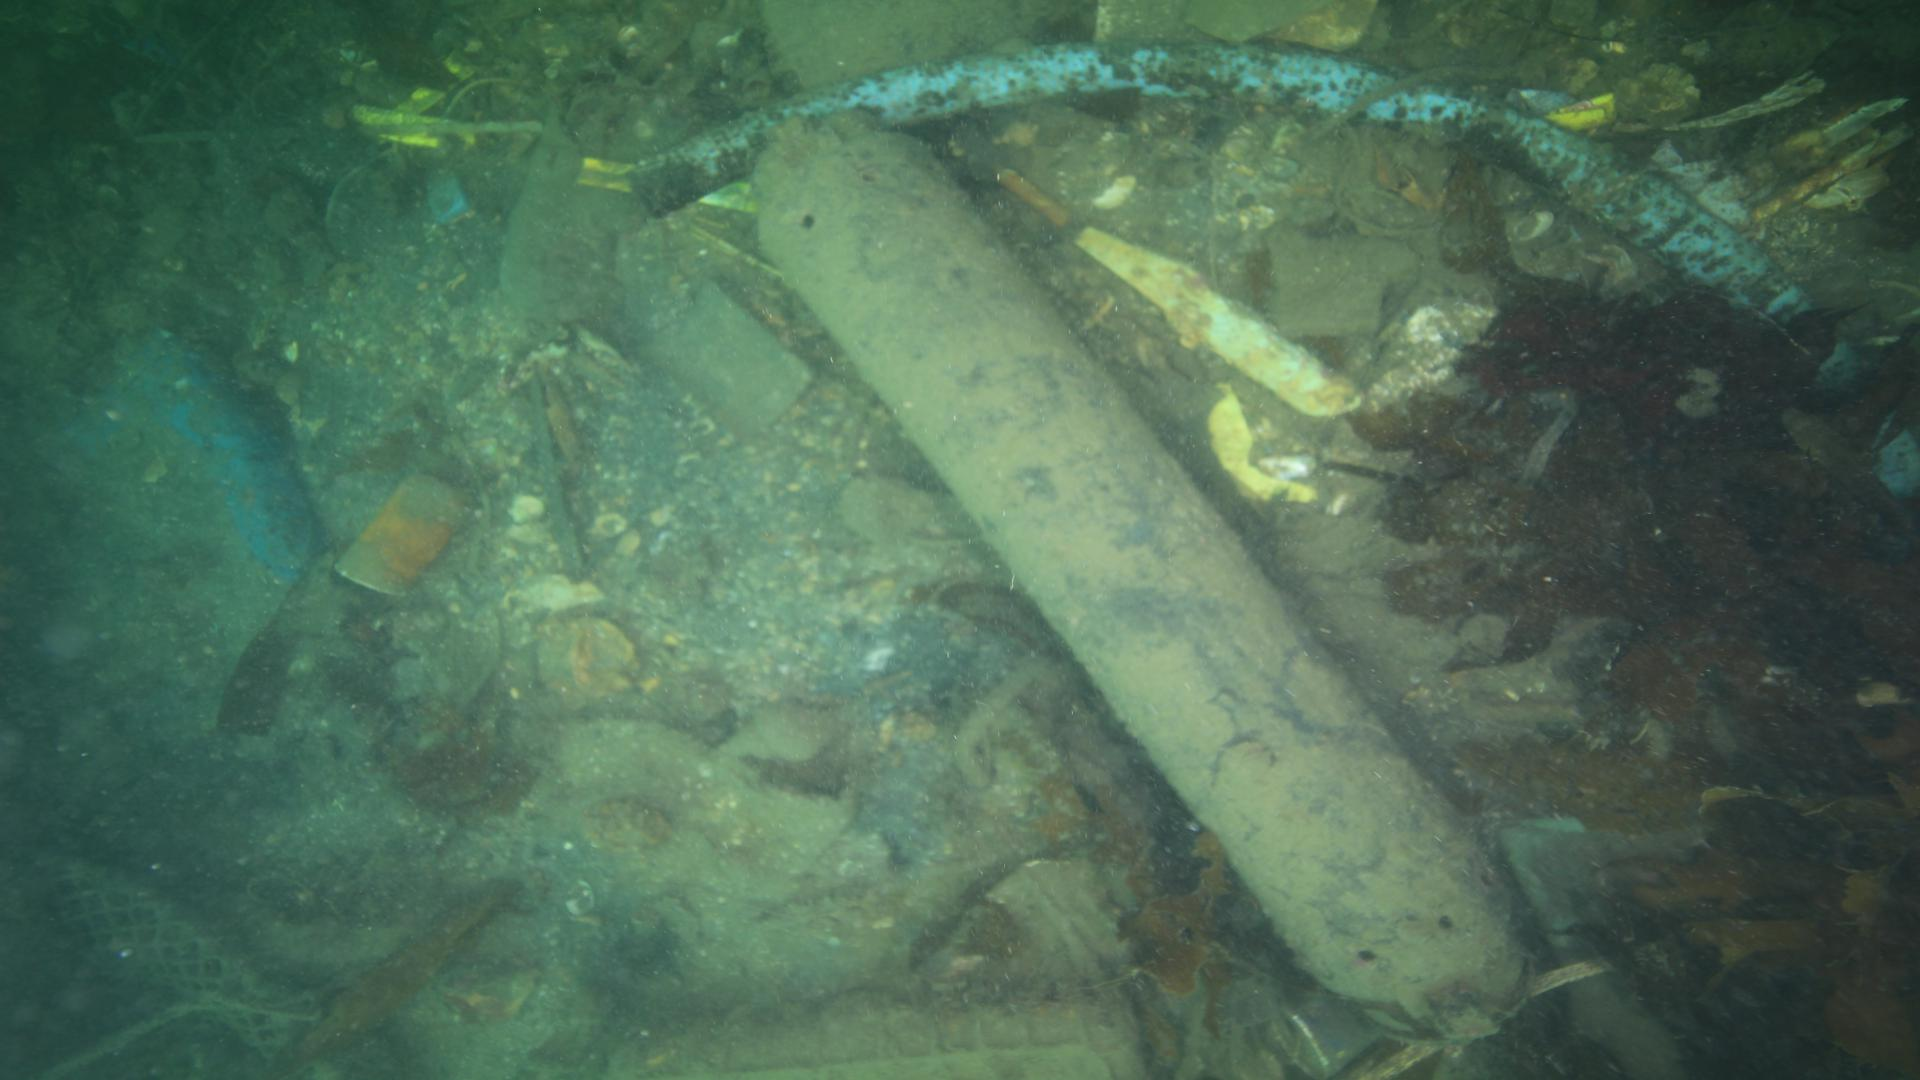eel fish trap: (752, 112, 1542, 1043)
